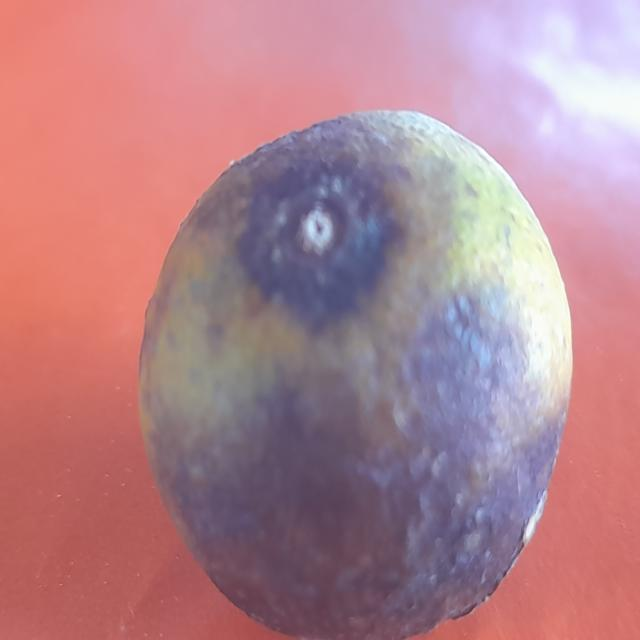black spot: (133, 102, 590, 640)
